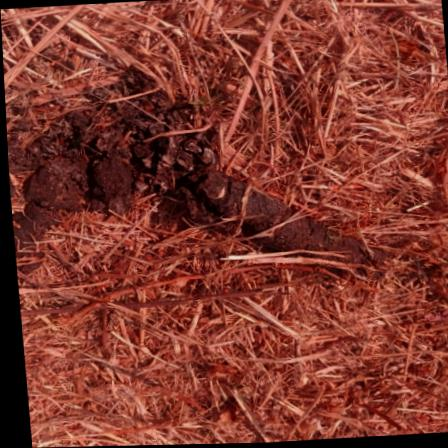dog-poop: (9, 89, 224, 258), (161, 163, 380, 284)
